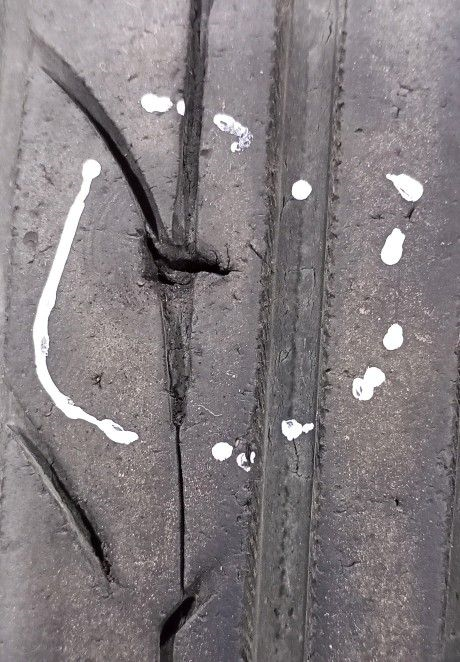tr: (133, 213, 243, 290)
